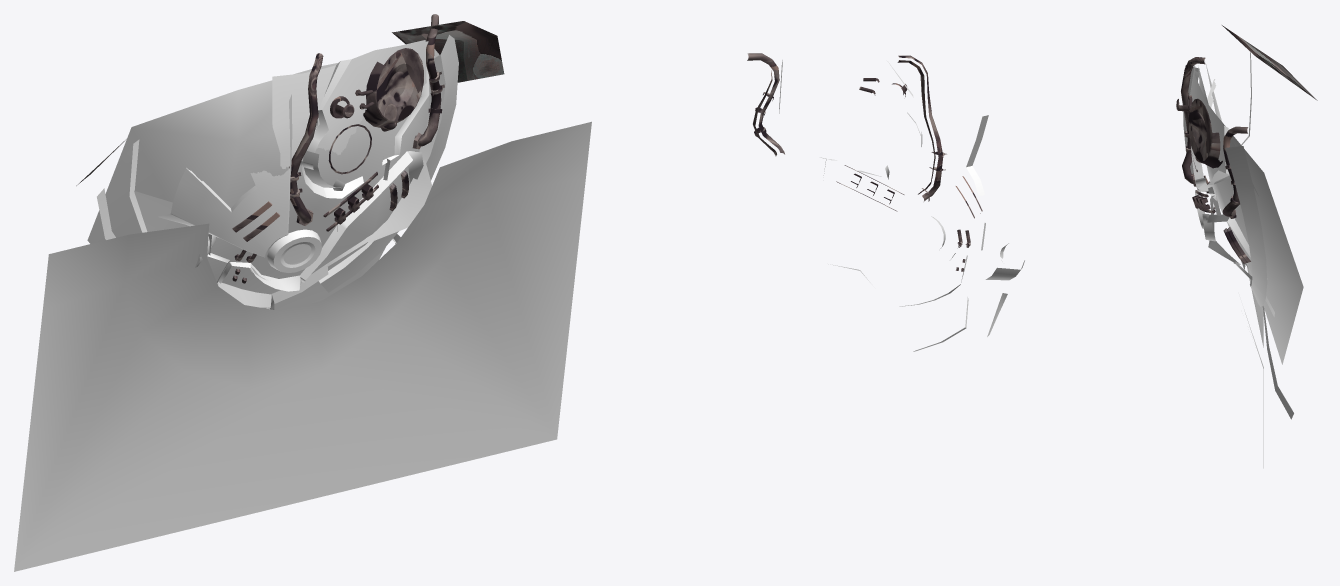
File: model_core.glb
The picture shows the model from 3 angles, left to right: view 1: azimuth 30°, elevation 25°; view 2: azimuth 150°, elevation 25°; view 3: azimuth 270°, elevation 25°; orthographic projection. The views are drawn at different scales.
Visible parts, largest first — view 1: rsrc.world.skybox.core_approach.parts.model_depthfade-MeshNo, A:\.Yandex.YandexDisk.SK SHARED FILES.Game models.1 Exported (×4), rsrc.world.skybox.core_approach.parts.model_smoke_horizon-Me; view 2: A:\.Yandex.YandexDisk.SK SHARED FILES.Game models.1 Exported (×2); view 3: A:\.Yandex.YandexDisk.SK SHARED FILES.Game models.1 Exported (×4), rsrc.world.skybox.core_approach.parts.model_smoke_horizon-Me, rsrc.world.skybox.core_approach.parts.model_depthfade-MeshNo.
Part boxes in pixels (bbox=[...]): rsrc.world.skybox.core_approach.parts.model_depthfade-MeshNo: bbox=[14, 121, 591, 571]; A:\.Yandex.YandexDisk.SK SHARED FILES.Game models.1 Exported (×4): bbox=[87, 14, 458, 310]; rsrc.world.skybox.core_approach.parts.model_smoke_horizon-Me: bbox=[76, 21, 504, 185]; A:\.Yandex.YandexDisk.SK SHARED FILES.Game models.1 Exported (×2): bbox=[747, 53, 1024, 351]; A:\.Yandex.YandexDisk.SK SHARED FILES.Game models.1 Exported (×4): bbox=[1176, 52, 1303, 419]; rsrc.world.skybox.core_approach.parts.model_smoke_horizon-Me: bbox=[1222, 25, 1317, 100]; rsrc.world.skybox.core_approach.parts.model_depthfade-MeshNo: bbox=[1205, 63, 1263, 468].
Bounding box in the file's own units: 544 × 477 × 158.
6 materials, 3 textured.
